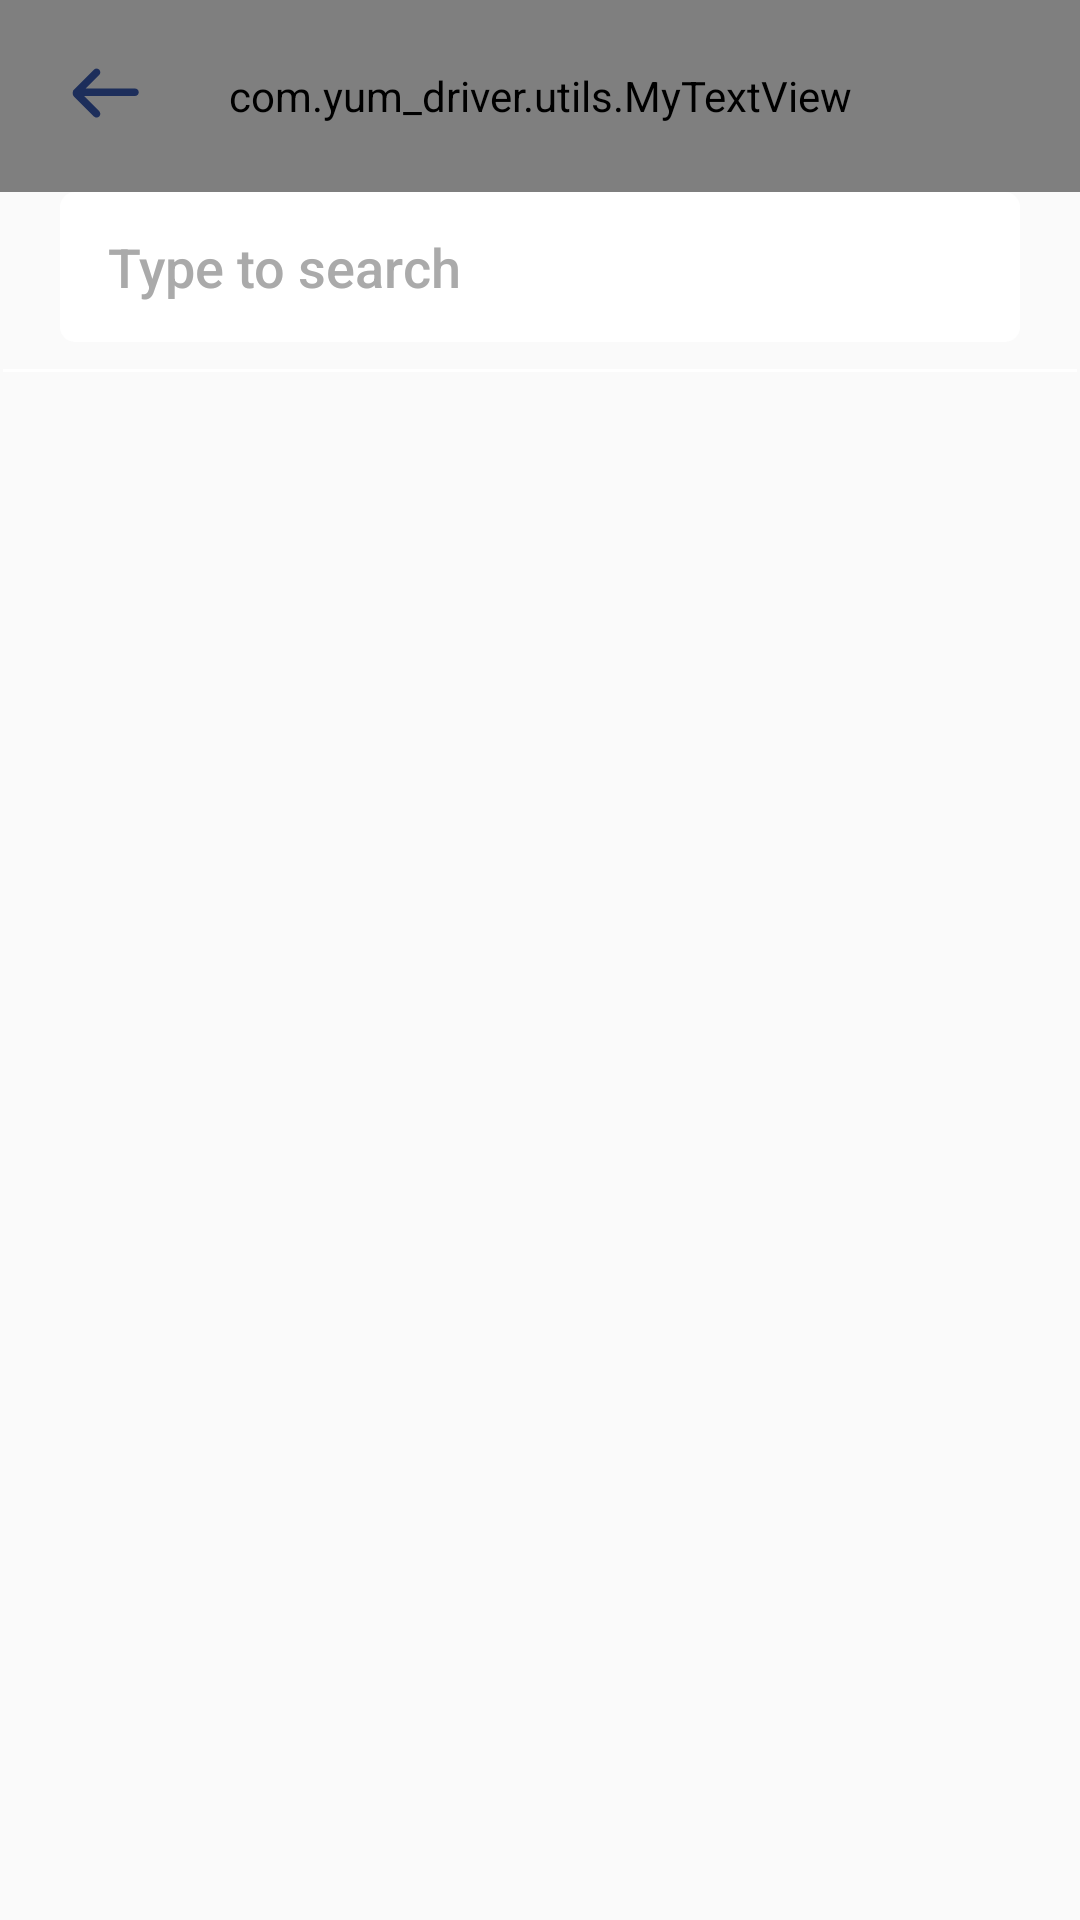

Named icons in this screenshot (1080 × 1920) and their bounding boxes, (x1, y1, x2, y2):
back: (72, 68, 139, 118)
